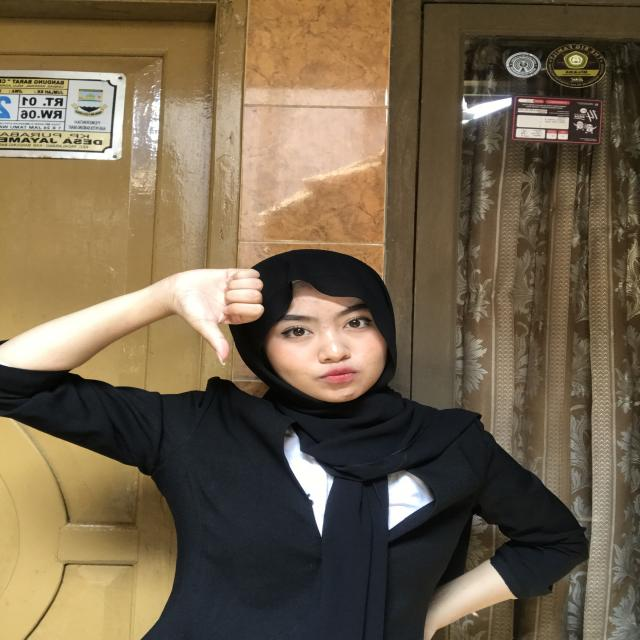sedih: (119, 253, 287, 392)
